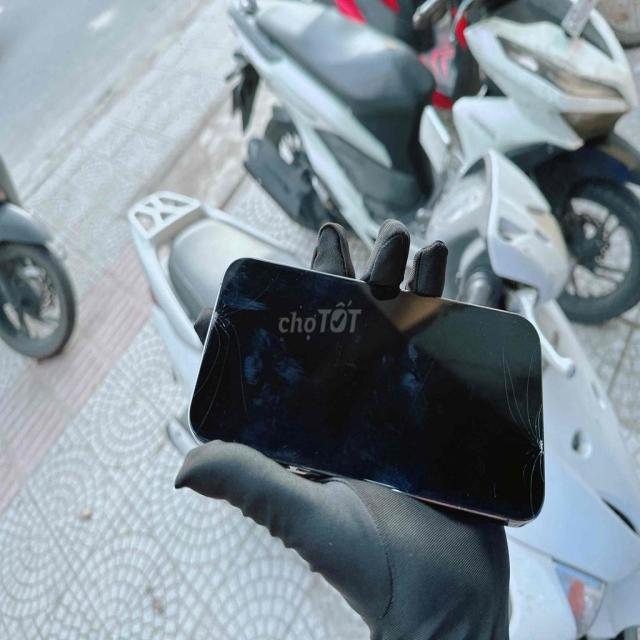scratch: (372, 460, 417, 496), (400, 338, 422, 401), (300, 267, 333, 303)
screen_defect: (194, 276, 276, 432), (497, 351, 546, 528)
